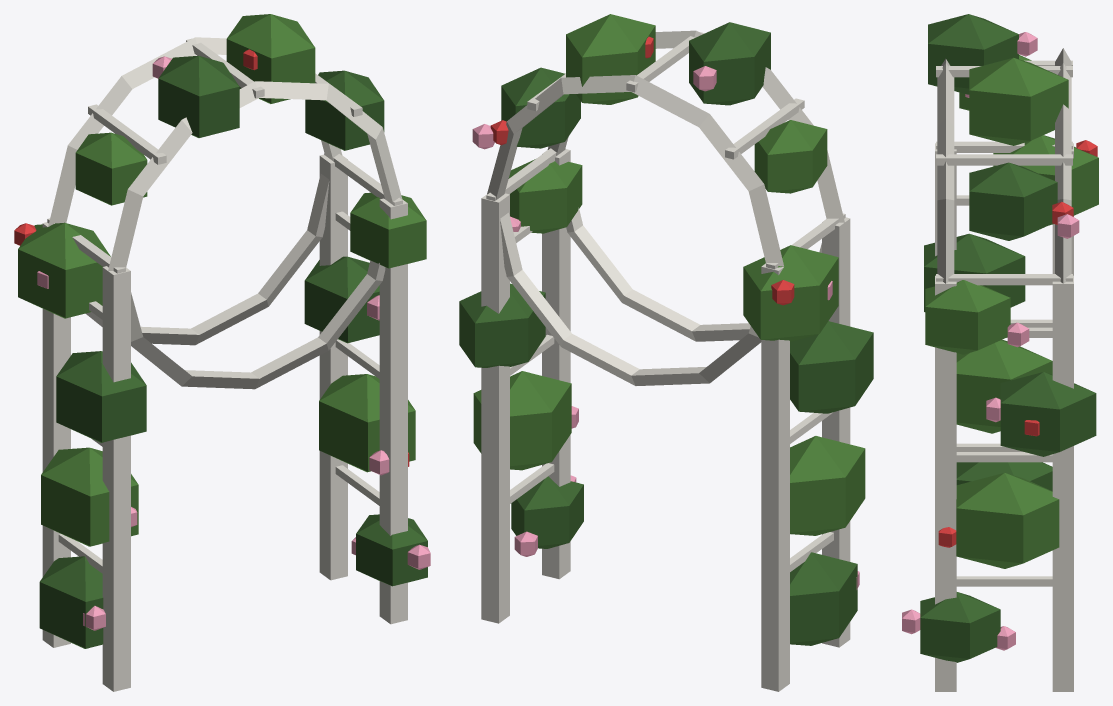
The model's file is garden_arch.glb.
3 views of the same model, side by side, from view 1: azimuth 30°, elevation 25°; view 2: azimuth 150°, elevation 25°; view 3: azimuth 270°, elevation 25° (orthographic). The views are drawn at different scales.
Parts seen in each view (by area): view 1: garden_arch; view 2: garden_arch; view 3: garden_arch.
Boxes of the visible parts, x1,y1,x2,y2 form: garden_arch: (14,14,430,691); garden_arch: (459,14,873,691); garden_arch: (902,14,1098,691).
Bounding box in the file's own units: 2.09 × 3.31 × 1.
